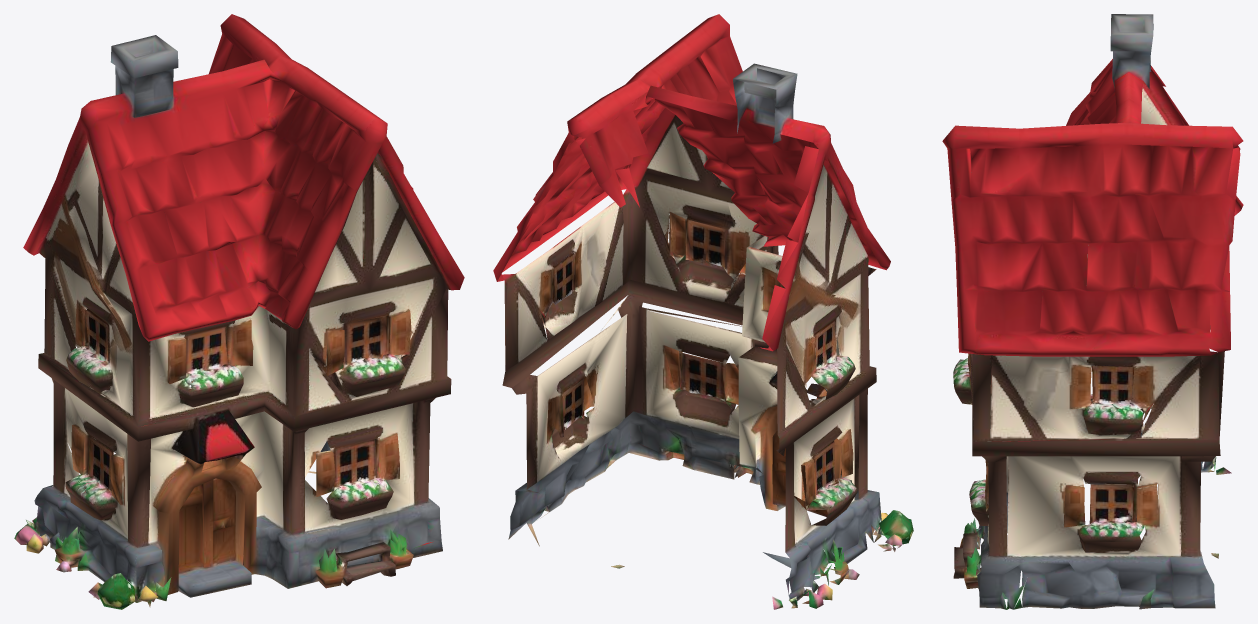
File: house_terra_6_facadeB.glb
3 renders of one model, left to right at view 1: azimuth 30°, elevation 25°; view 2: azimuth 150°, elevation 25°; view 3: azimuth 270°, elevation 25°, orthographic. The views are drawn at different scales.
Parts seen in each view (by area): view 1: facadeB; view 2: facadeB; view 3: facadeB.
Part boxes in pixels (box(x1,y1,x2,y2)): facadeB: box(14, 14, 464, 609); facadeB: box(493, 14, 913, 609); facadeB: box(942, 14, 1243, 609).
Bounding box in the file's own units: 1.48 × 2.1 × 1.19.
1 material, 1 textured.
